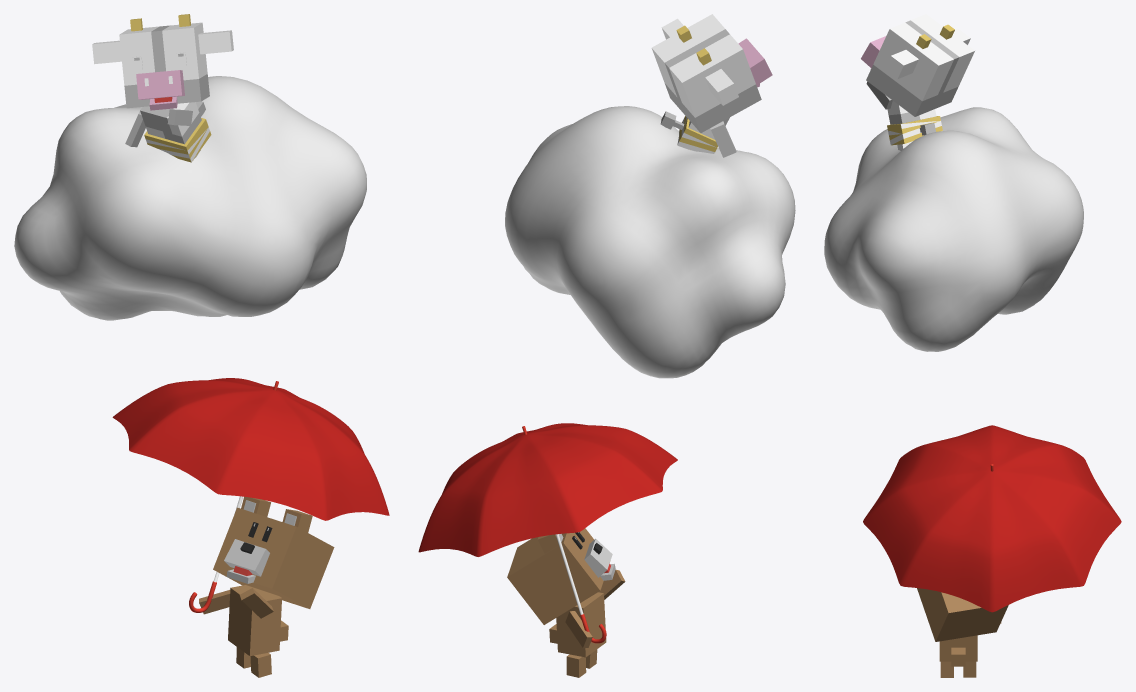
The model's file is ushilite.gltf.
3 renders of one model, left to right at view 1: azimuth 30°, elevation 25°; view 2: azimuth 150°, elevation 25°; view 3: azimuth 270°, elevation 25°, orthographic. The views are drawn at different scales.
Parts seen in each view (by area): view 1: Cloud, Umbrella_a, Hakokuma_head, Hakoushi_Head, Hakokuma_Body, HakoUshi_Body, HakoUshi_pants; view 2: Cloud, Umbrella_a, Hakoushi_Head, Hakokuma_head, Hakokuma_Body, HakoUshi_pants, BezierCurve; view 3: Cloud, Umbrella_a, Hakoushi_Head, Hakokuma_head, HakoUshi_pants, Hakokuma_Body, HakoUshi_Body.
Boxes of the visible parts, left/top/right/bottom form: Cloud: left=14, top=76, right=366, bottom=320; Umbrella_a: left=112, top=378, right=389, bottom=520; Hakokuma_head: left=213, top=496, right=334, bottom=608; Hakoushi_Head: left=92, top=14, right=233, bottom=110; Hakokuma_Body: left=228, top=585, right=281, bottom=655; HakoUshi_Body: left=140, top=102, right=201, bottom=144; HakoUshi_pants: left=144, top=118, right=211, bottom=162; Cloud: left=505, top=106, right=795, bottom=378; Umbrella_a: left=418, top=423, right=677, bottom=556; Hakoushi_Head: left=651, top=14, right=772, bottom=132; Hakokuma_head: left=507, top=528, right=615, bottom=624; Hakokuma_Body: left=556, top=592, right=606, bottom=657; HakoUshi_pants: left=677, top=116, right=717, bottom=153; BezierCurve: left=522, top=426, right=606, bottom=643; Cloud: left=824, top=107, right=1083, bottom=351; Umbrella_a: left=863, top=425, right=1121, bottom=612; Hakoushi_Head: left=861, top=14, right=974, bottom=116; Hakokuma_head: left=917, top=588, right=1008, bottom=641; HakoUshi_pants: left=887, top=116, right=942, bottom=145; Hakokuma_Body: left=939, top=635, right=977, bottom=661; HakoUshi_Body: left=887, top=101, right=936, bottom=124.
Size of the model in its own units: 2.72 by 5.02 by 2.24.
